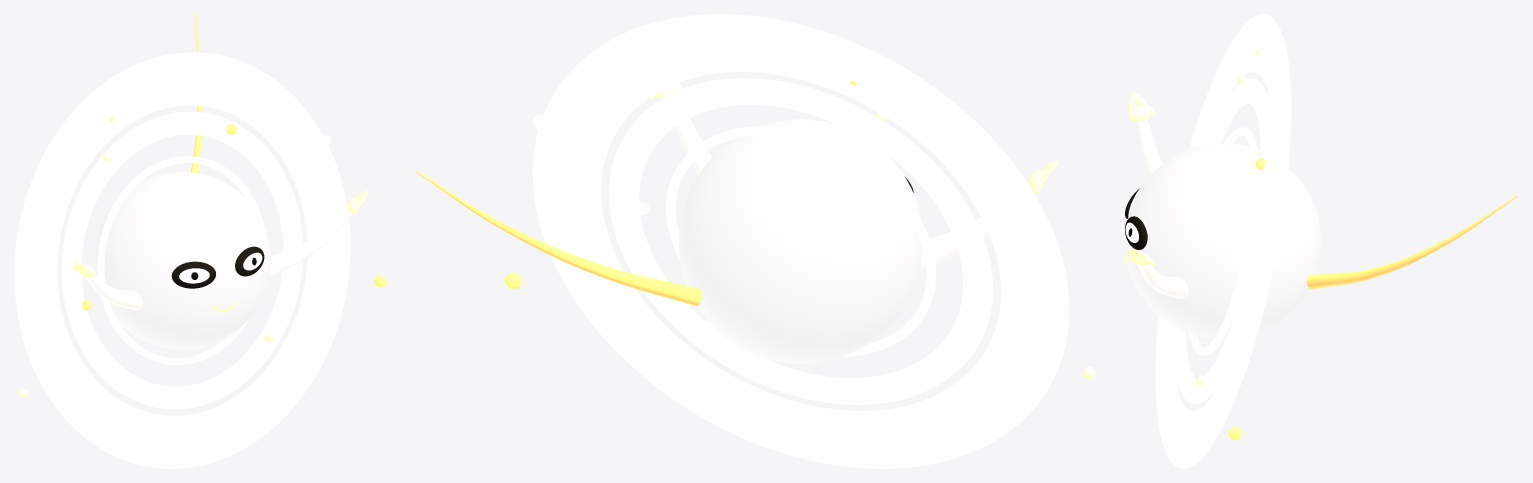
Rendered from BlackHoleMascot.glb.
3 views of the same model, side by side, from view 1: azimuth 30°, elevation 25°; view 2: azimuth 150°, elevation 25°; view 3: azimuth 270°, elevation 25° (orthographic). The views are drawn at different scales.
Visible parts, largest first — view 1: Disk_GlowOuter, Body, Disk_Main, Disk_HotInner, Arm_R, Arm_L, EyeSocket_L, EyeSocket_R; view 2: Disk_GlowOuter, Body, Disk_Main, Disk_HotInner, Tail, Arm_L, Arm_R; view 3: Body, Disk_GlowOuter, Disk_Main, Disk_HotInner, Tail, Arm_R, Arm_L, EyeSocket_R.
Part boxes in pixels (x1,y1,x2,y2): Disk_GlowOuter: [14, 52, 350, 468]; Body: [93, 171, 271, 349]; Disk_Main: [61, 111, 302, 409]; Disk_HotInner: [97, 156, 264, 365]; Arm_R: [269, 207, 352, 278]; Arm_L: [85, 274, 142, 310]; EyeSocket_L: [171, 261, 215, 288]; EyeSocket_R: [235, 246, 264, 276]; Disk_GlowOuter: [532, 14, 1069, 468]; Body: [678, 119, 922, 363]; Disk_Main: [609, 78, 993, 404]; Disk_HotInner: [666, 126, 936, 356]; Tail: [415, 171, 702, 306]; Arm_L: [919, 182, 1034, 271]; Arm_R: [676, 118, 711, 174]; Body: [1125, 143, 1321, 339]; Disk_GlowOuter: [1155, 14, 1291, 468]; Disk_Main: [1171, 79, 1272, 403]; Disk_HotInner: [1189, 127, 1259, 355]; Tail: [1306, 195, 1518, 289]; Arm_R: [1138, 264, 1188, 298]; Arm_L: [1137, 120, 1162, 175]; EyeSocket_R: [1125, 216, 1147, 249].
Bounding box in the file's own units: 5.15 × 4.54 × 4.01.
